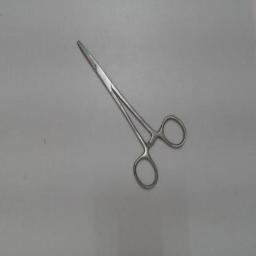Mayo Needle Holder: (68, 28, 194, 196)
